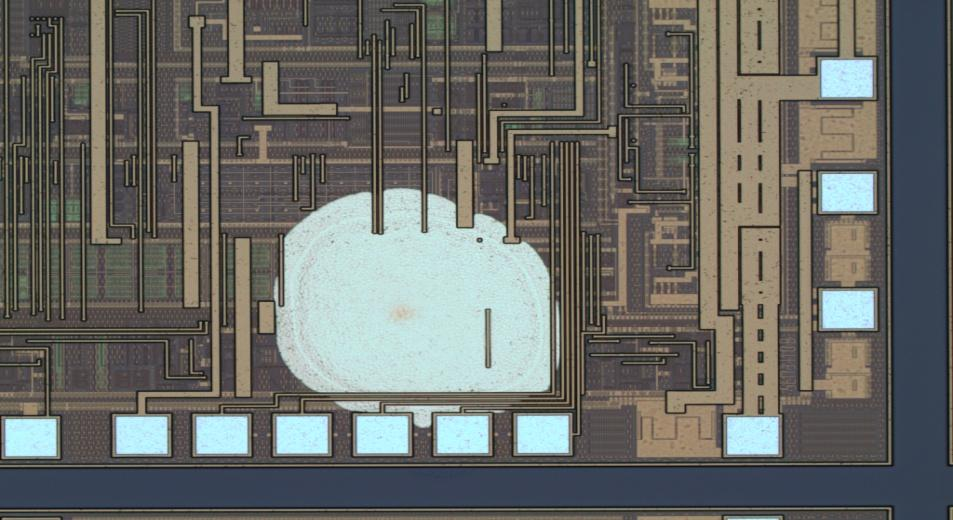BLOCK ETCH: (262, 181, 583, 436)
